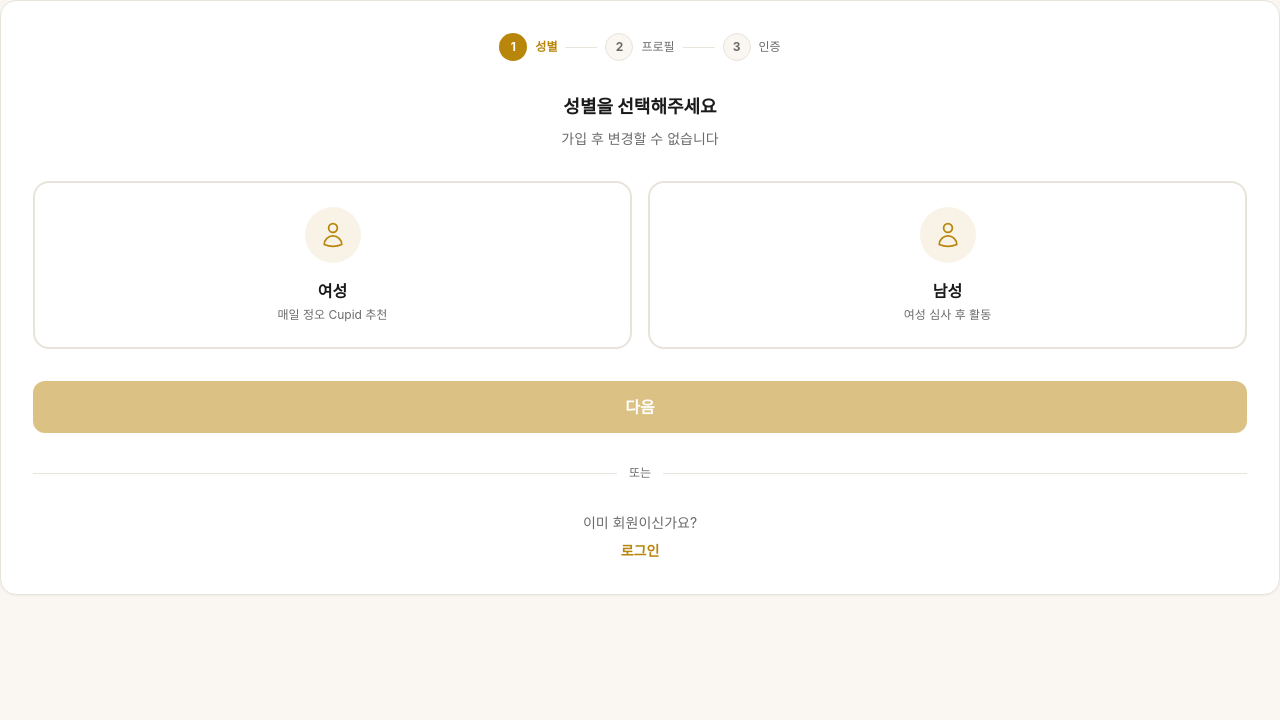
it: V10-WEB-SIGNUP 성인 본인확인 가입 통합 › V10-WEB-SIGNUP-02 거절: 기존 회원은 가입 문자 인증으로 새지 않고 로그인으로 돌려보낸다
Click the button "여성 매일 정오 Cupid 추천" at (332, 265), box [33, 181, 632, 349]
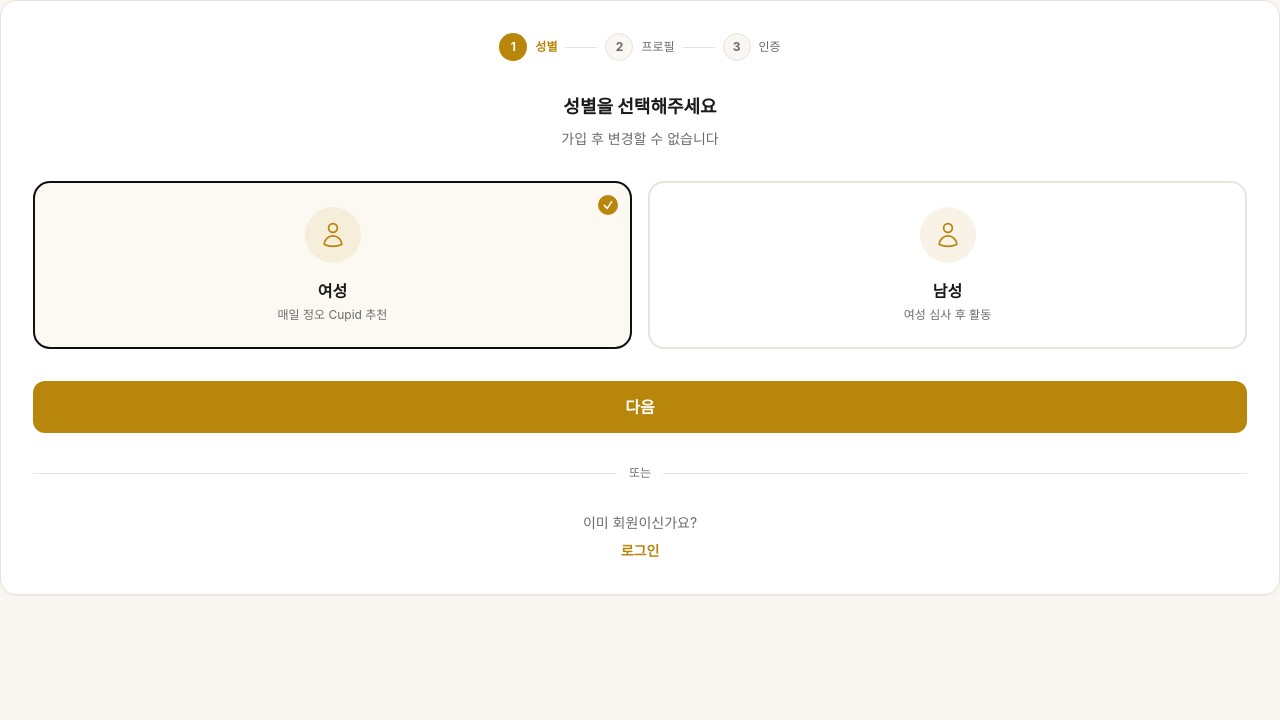
Click the button "다음" at (640, 407), box [33, 381, 1247, 433]
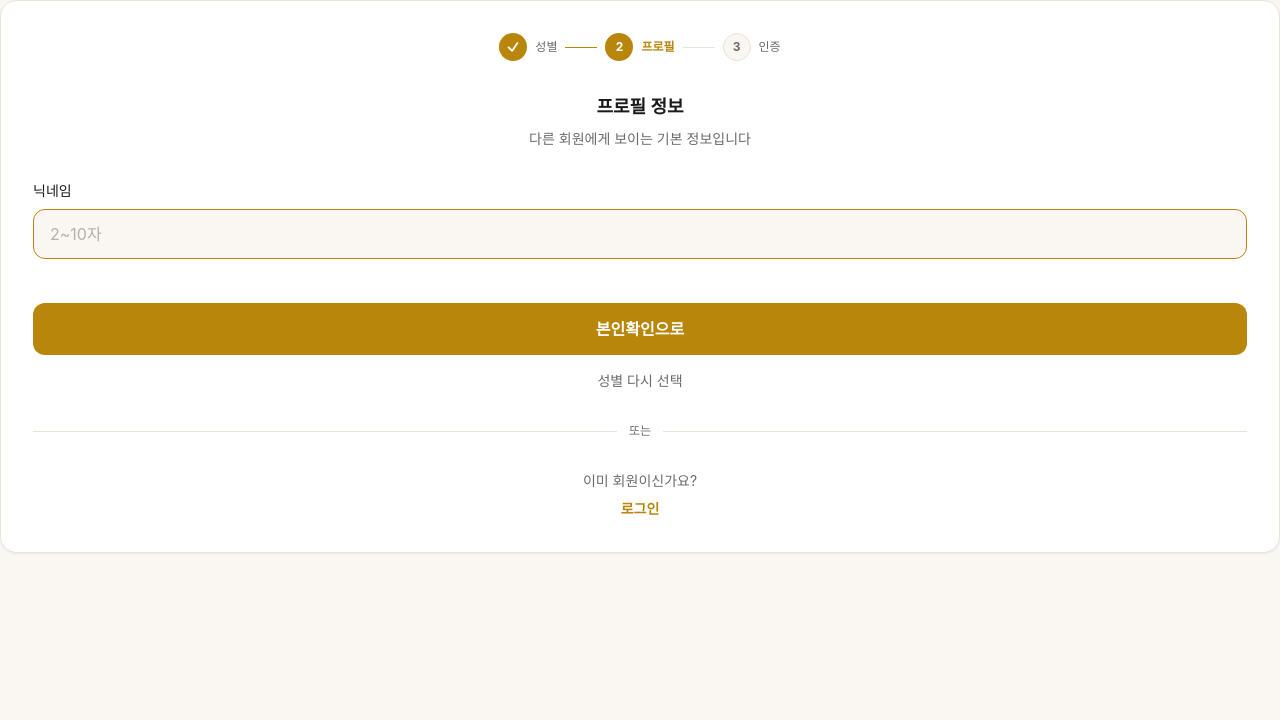
Type "지수" into the field with placeholder "2~10자" at (640, 234), box [33, 209, 1247, 259]
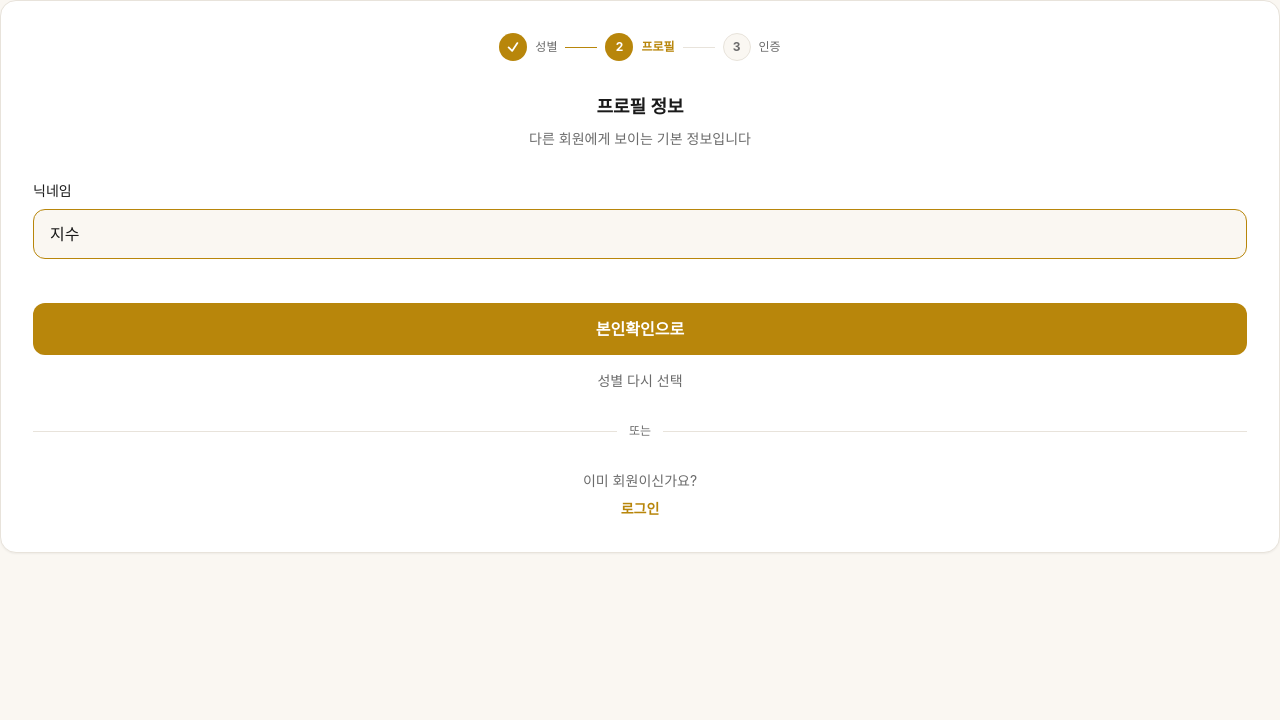
Click the button "본인확인으로" at (640, 329), box [33, 303, 1247, 355]
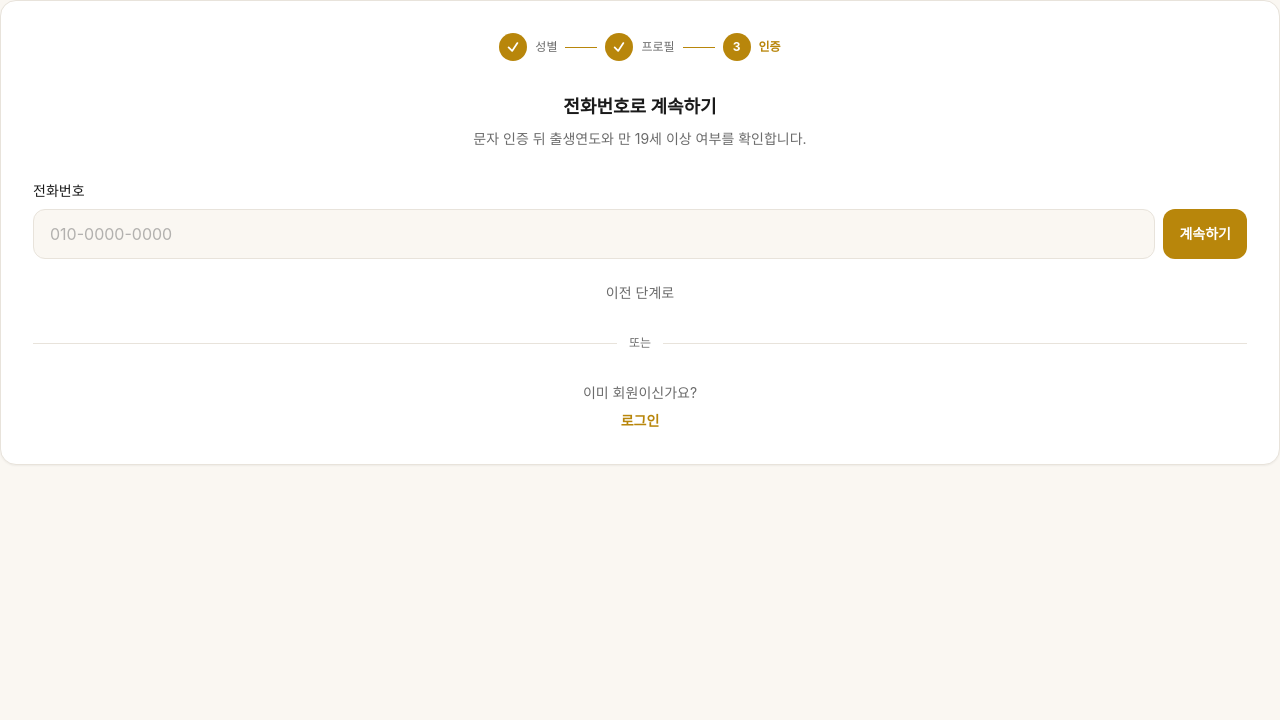
Type "01012345678" into the field with placeholder "010-0000-0000" at (594, 234), box [33, 209, 1156, 259]
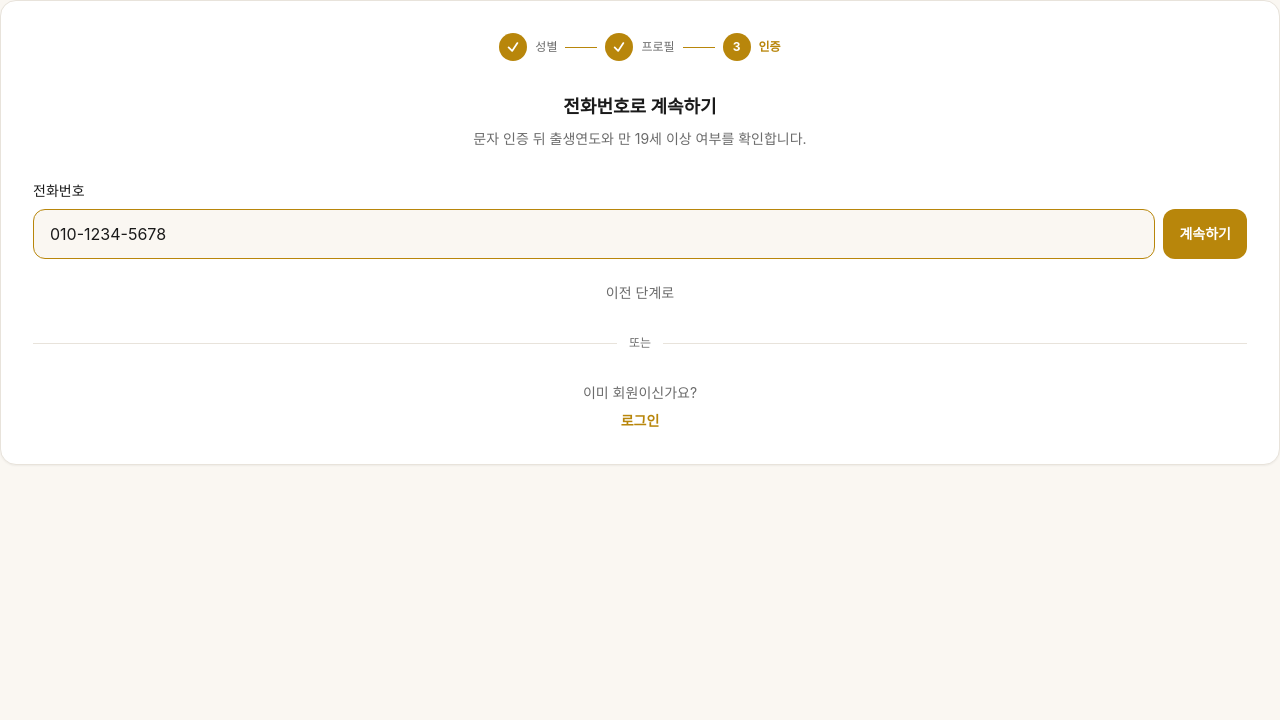
Click the button "계속하기" at (1205, 234), box [1164, 209, 1247, 259]
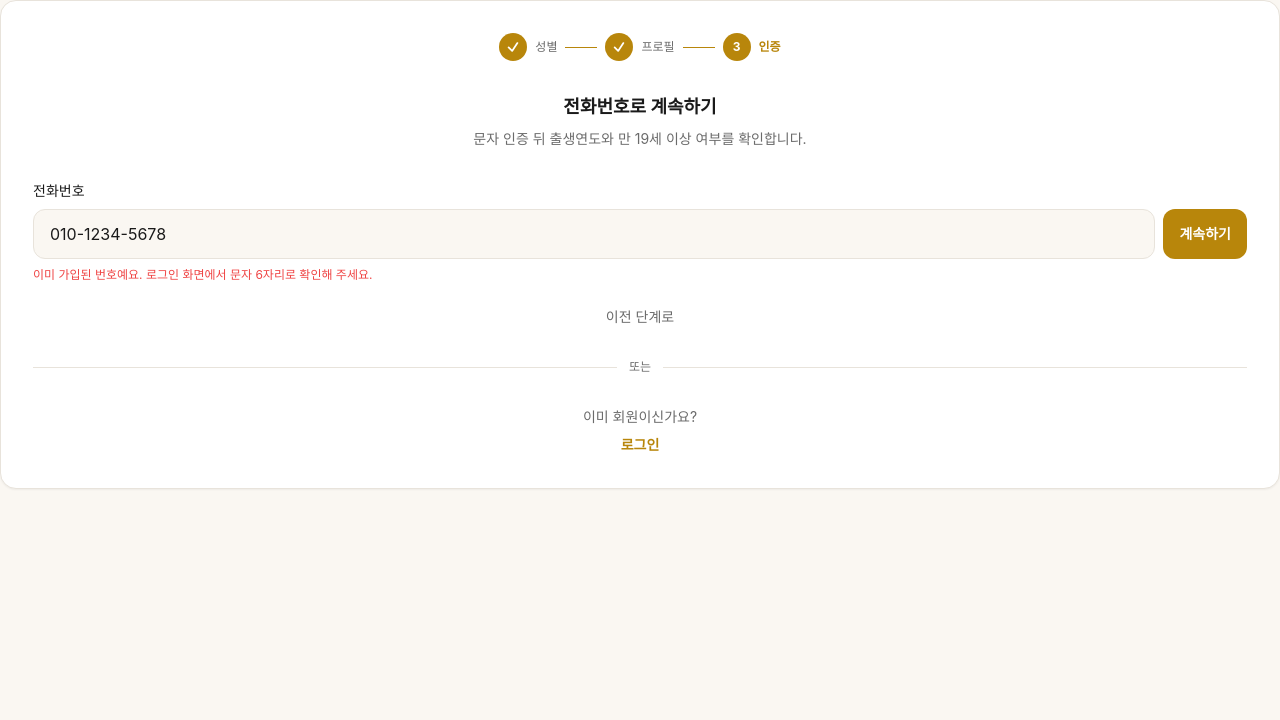
Check: the text "이미 가입된 번호예요. 로그인 화면에서 문자 6자리로 확인해 주세요." is shown, box [33, 267, 372, 282]
